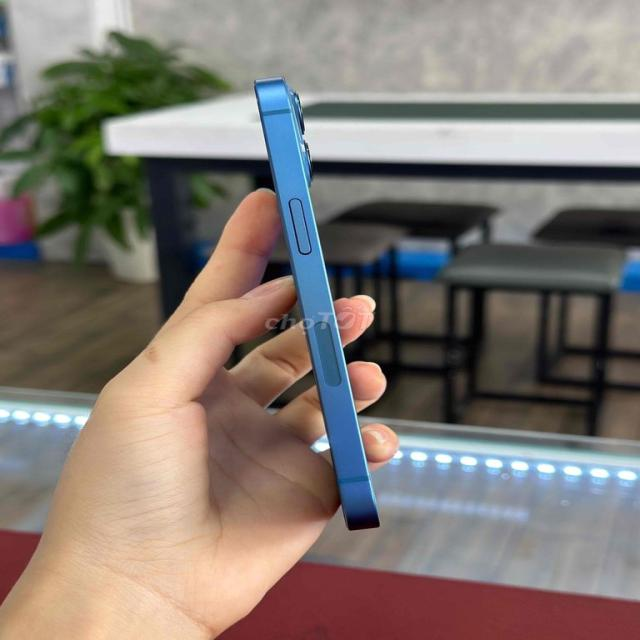gen_12_13: (253, 73, 387, 532)
